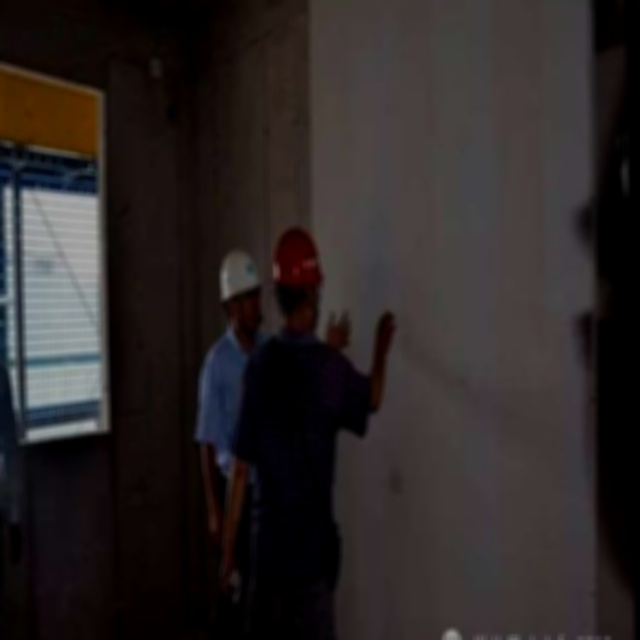Con_Casco: (271, 227, 324, 327), (219, 248, 265, 338)
